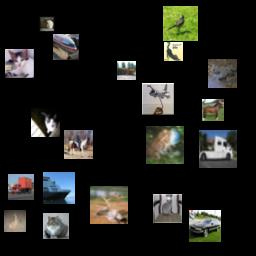airplane: (142, 83, 174, 115), (53, 34, 79, 60)
automobile: (189, 210, 221, 242)
bird: (163, 6, 198, 41)
cat: (31, 108, 60, 137), (153, 194, 182, 223), (5, 49, 34, 78), (43, 213, 69, 239), (4, 210, 26, 232), (164, 42, 183, 61), (39, 16, 55, 32)
deer: (90, 186, 128, 224)
frog: (146, 126, 184, 164), (208, 59, 237, 88)
ship: (43, 172, 75, 204)
truck: (199, 130, 237, 168), (8, 174, 34, 200), (117, 61, 136, 80)
